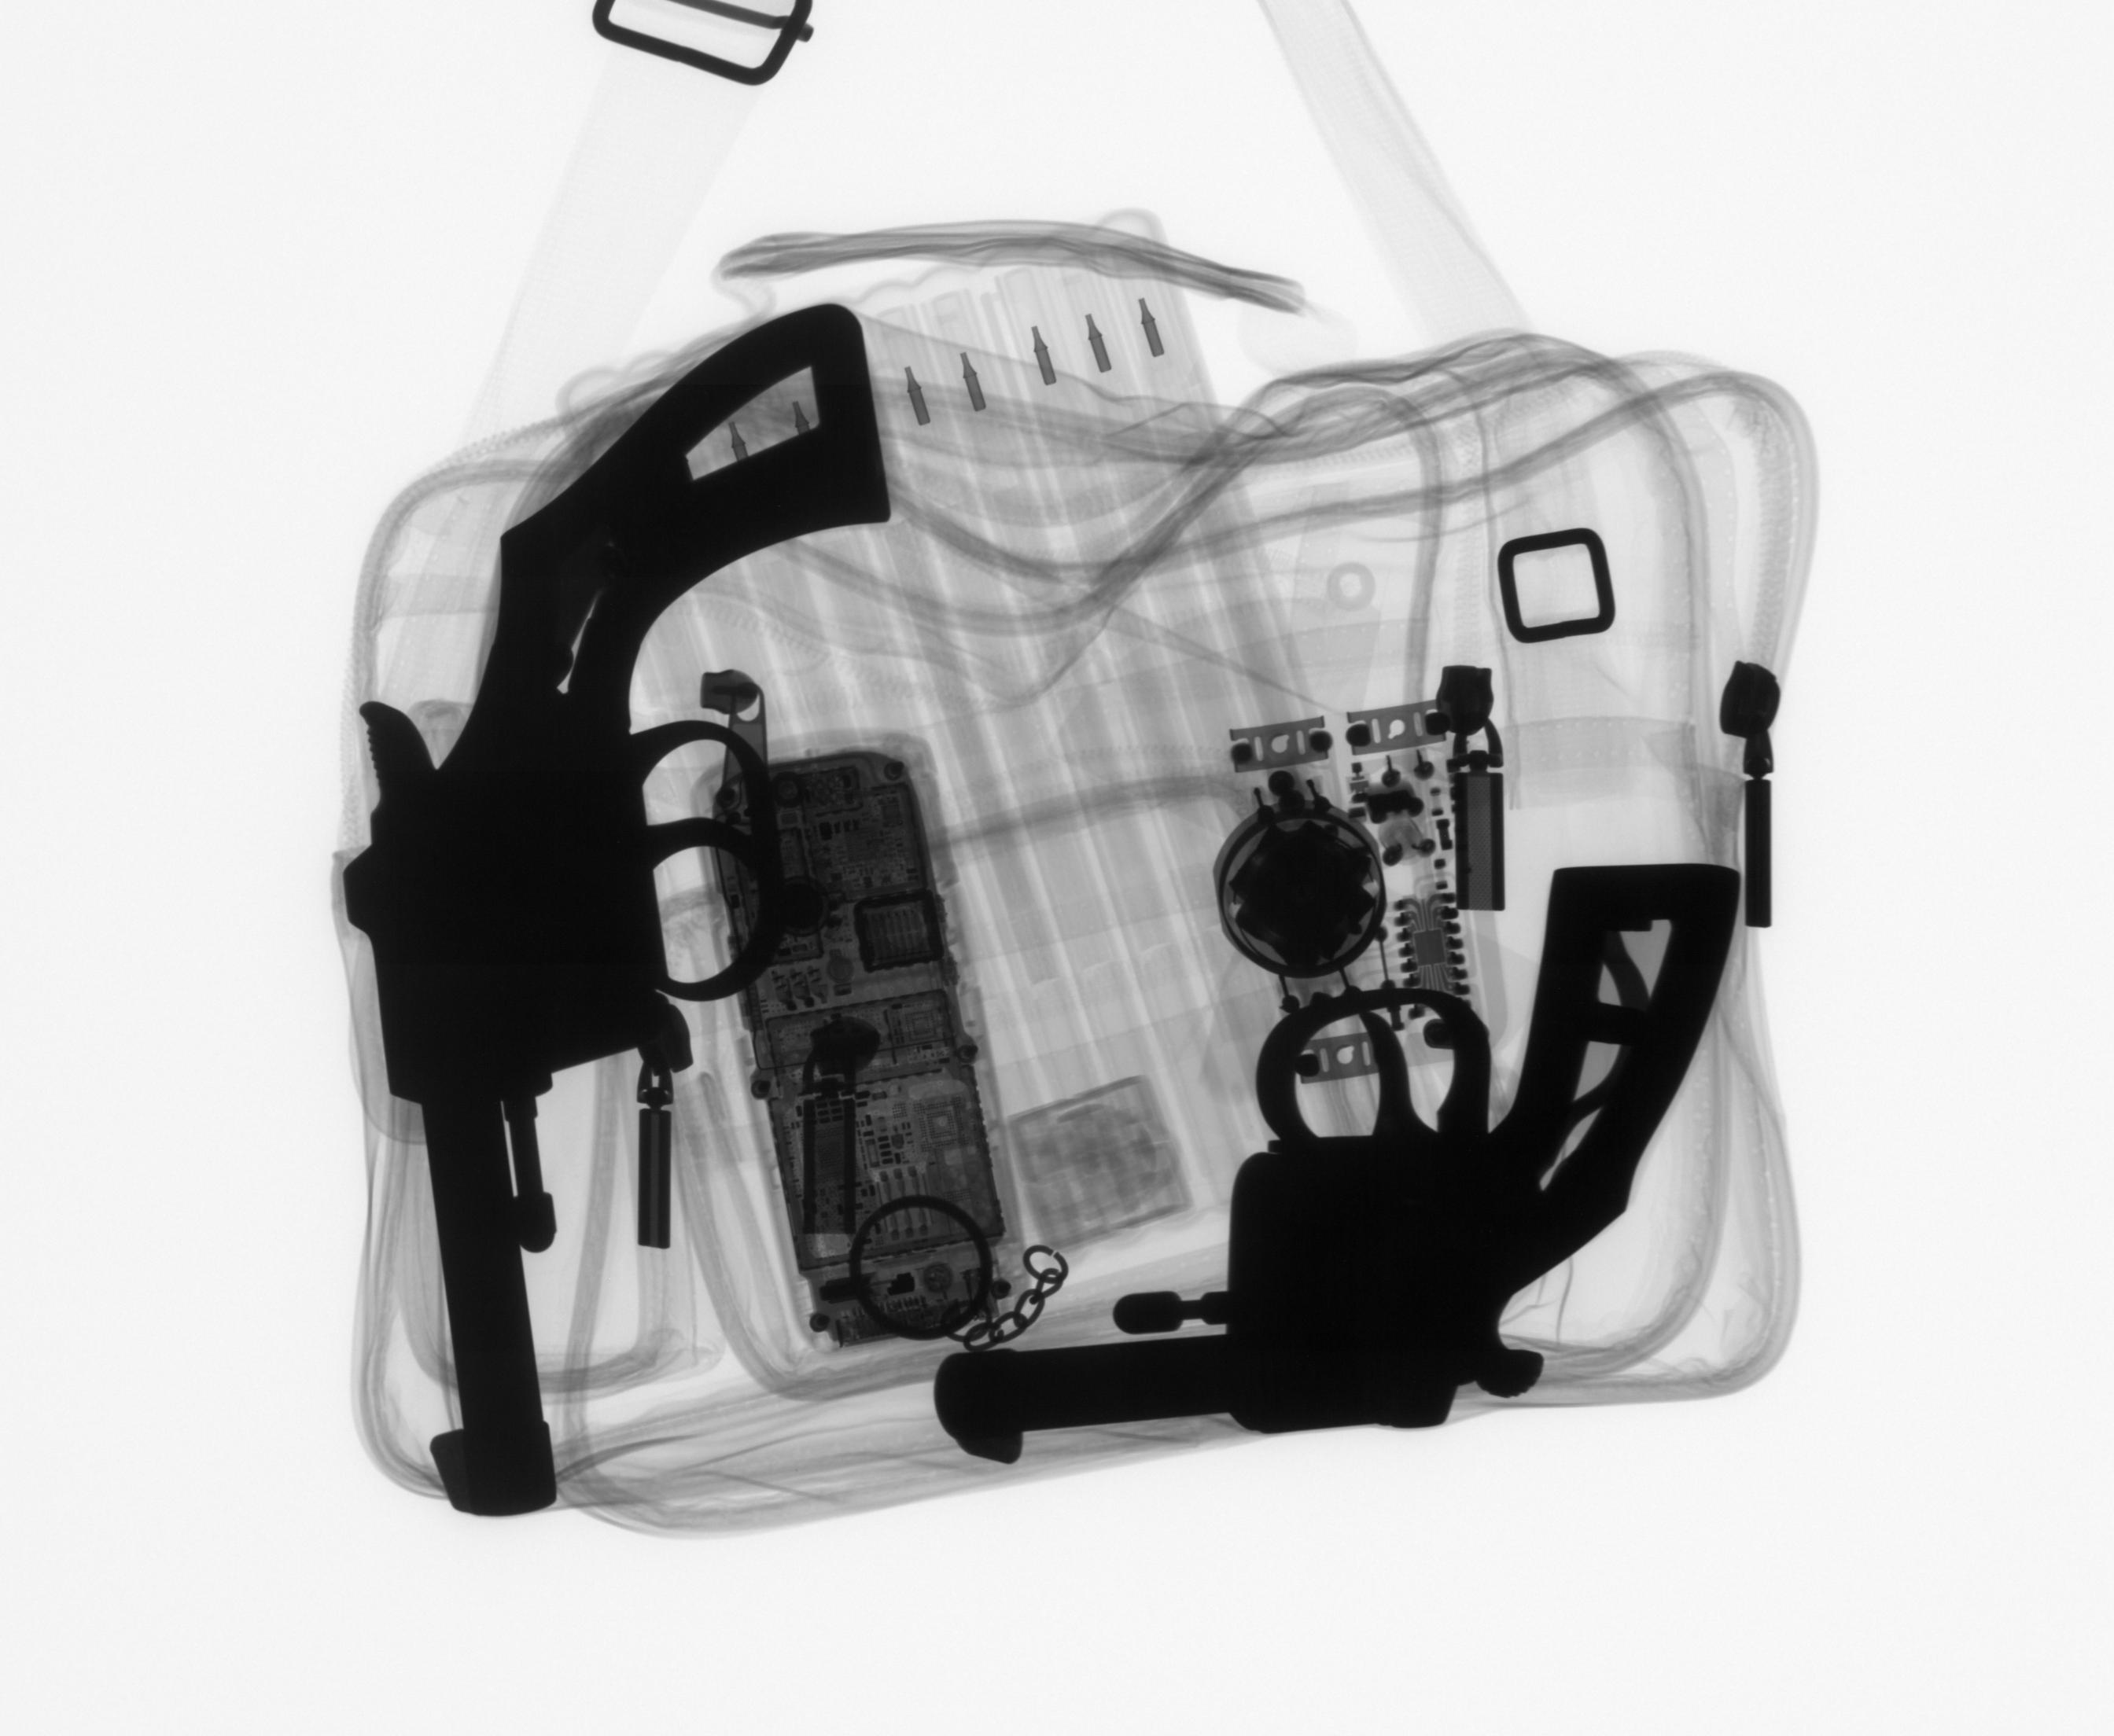Handgun: (333, 292, 900, 1528), (922, 852, 1755, 1471)
